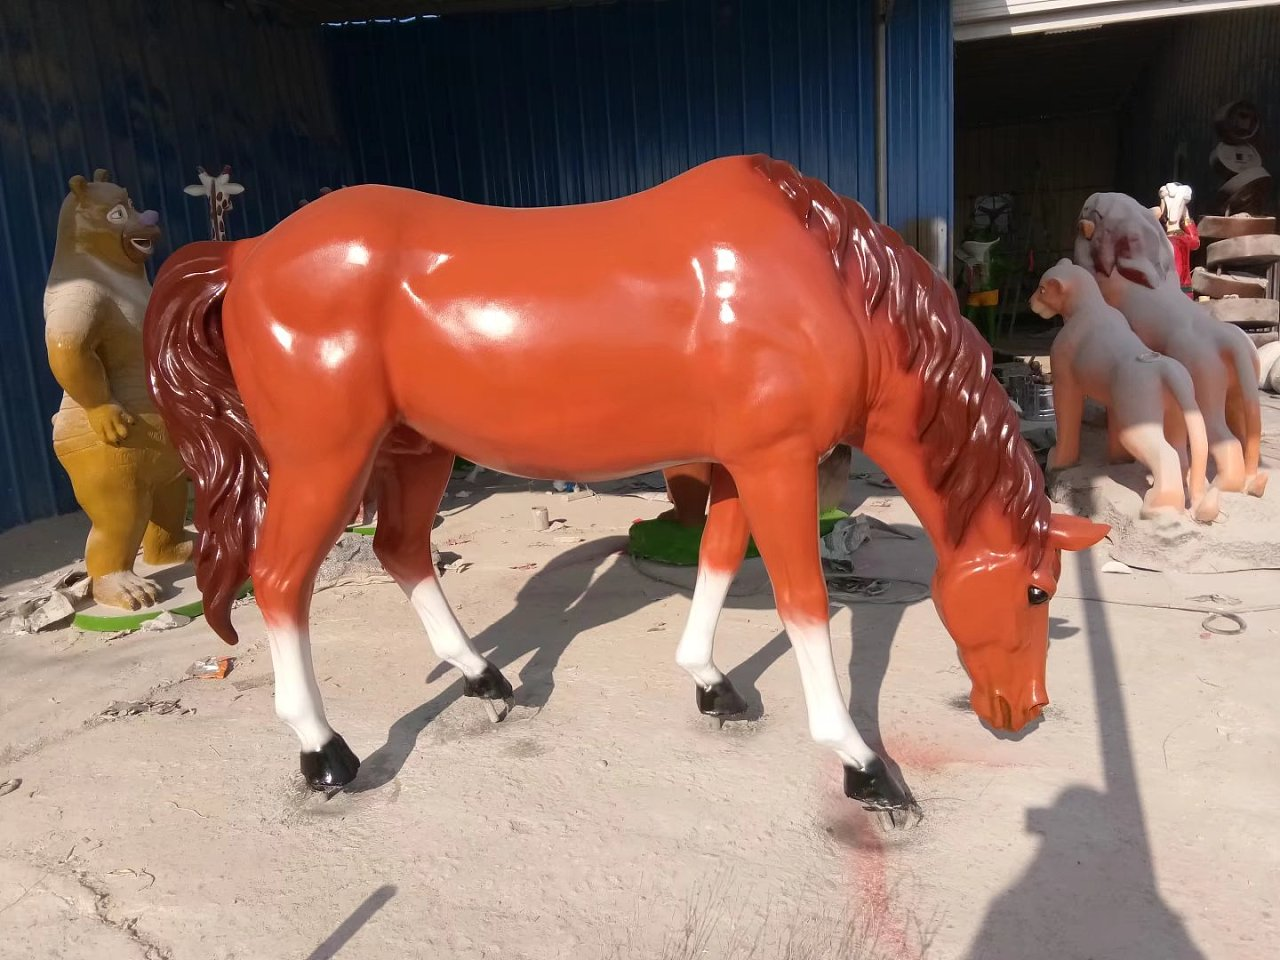background: (54, 154, 1098, 830)
